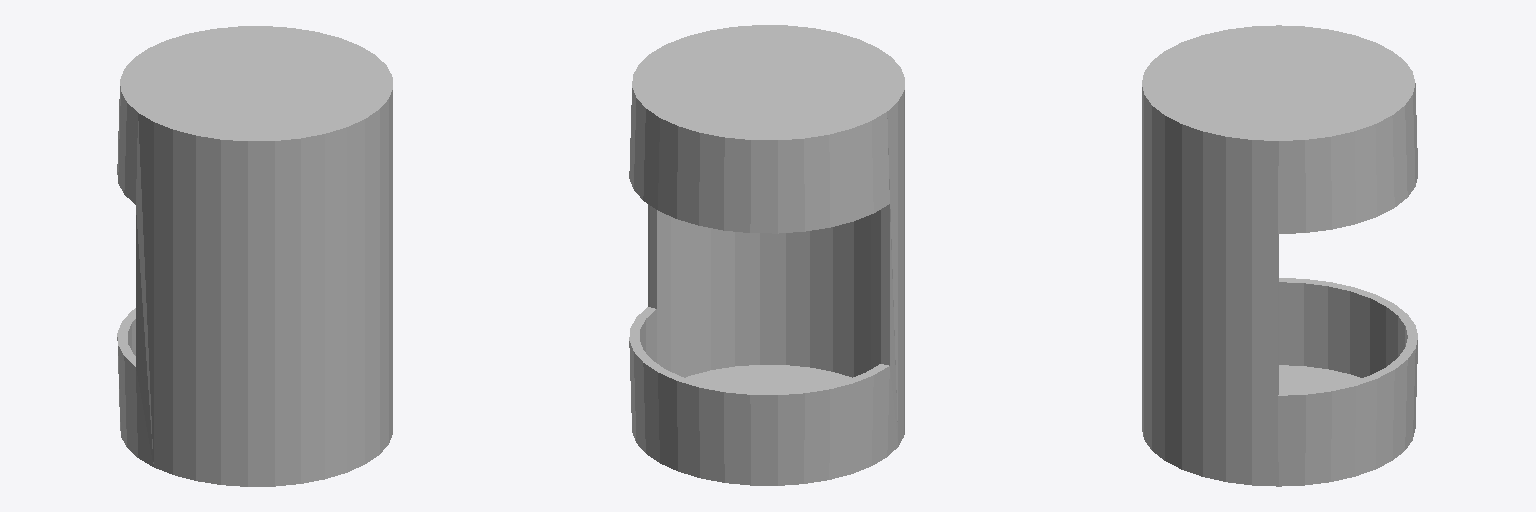
The model's file is simple_slot.obj.
3 renders of one model, left to right at view 1: azimuth 30°, elevation 25°; view 2: azimuth 150°, elevation 25°; view 3: azimuth 270°, elevation 25°, orthographic.
Parts seen in each view (by area): view 1: Slot_Cylinder; view 2: Slot_Cylinder; view 3: Slot_Cylinder.
Boxes of the visible parts, <box> form: Slot_Cylinder: <box>117,26,392,486</box>; Slot_Cylinder: <box>629,25,904,485</box>; Slot_Cylinder: <box>1142,25,1417,486</box>.
Size of the model in its own units: 1.95 by 2.66 by 1.93.